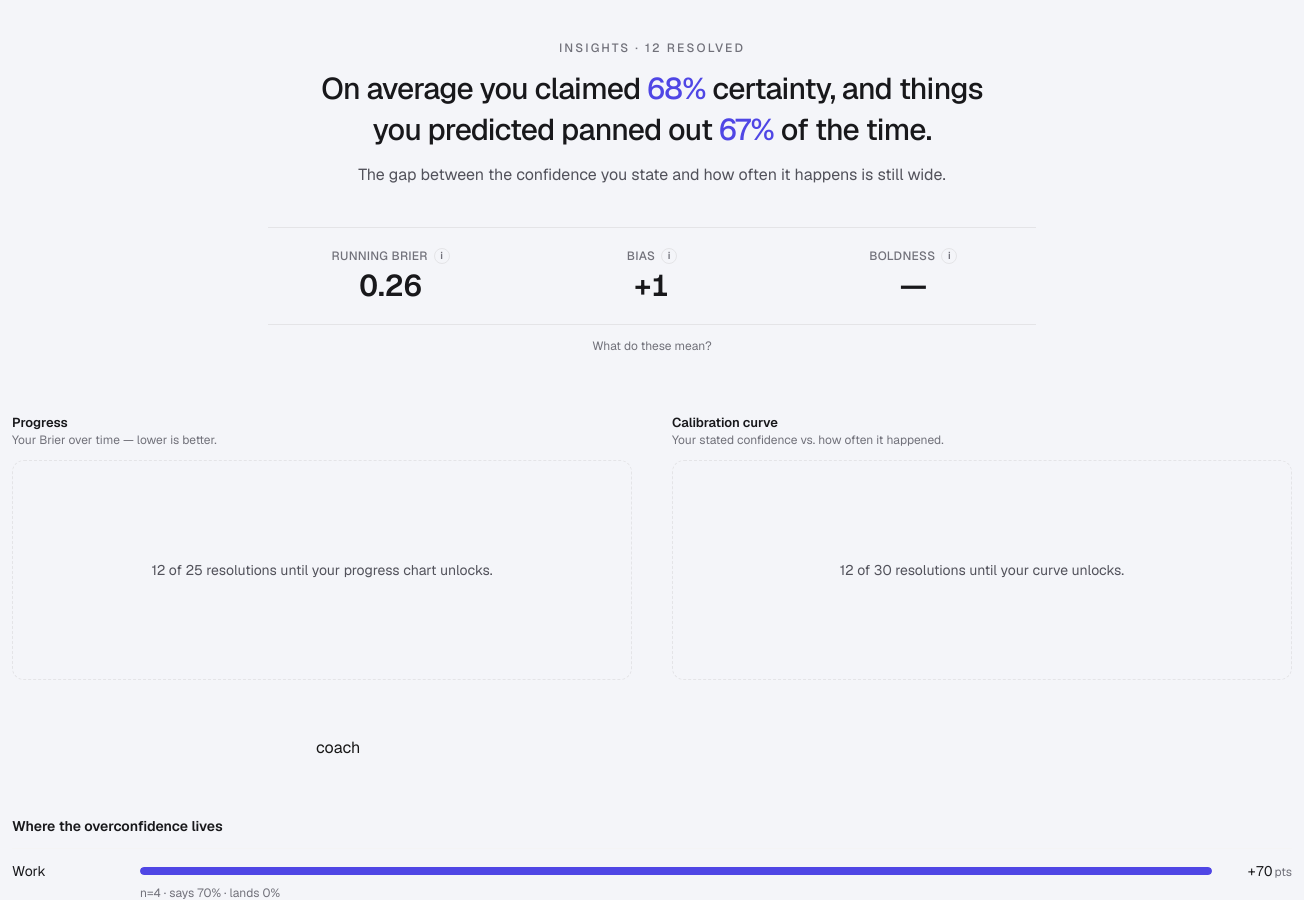
Test: InsightsOverview — narrative redesign › keeps definitions behind one 'What do these mean?' affordance that toggles open
This screenshot has width=1304, height=900.
Click the button "What do these mean?".
click(652, 346)  # box [592,338,712,354]
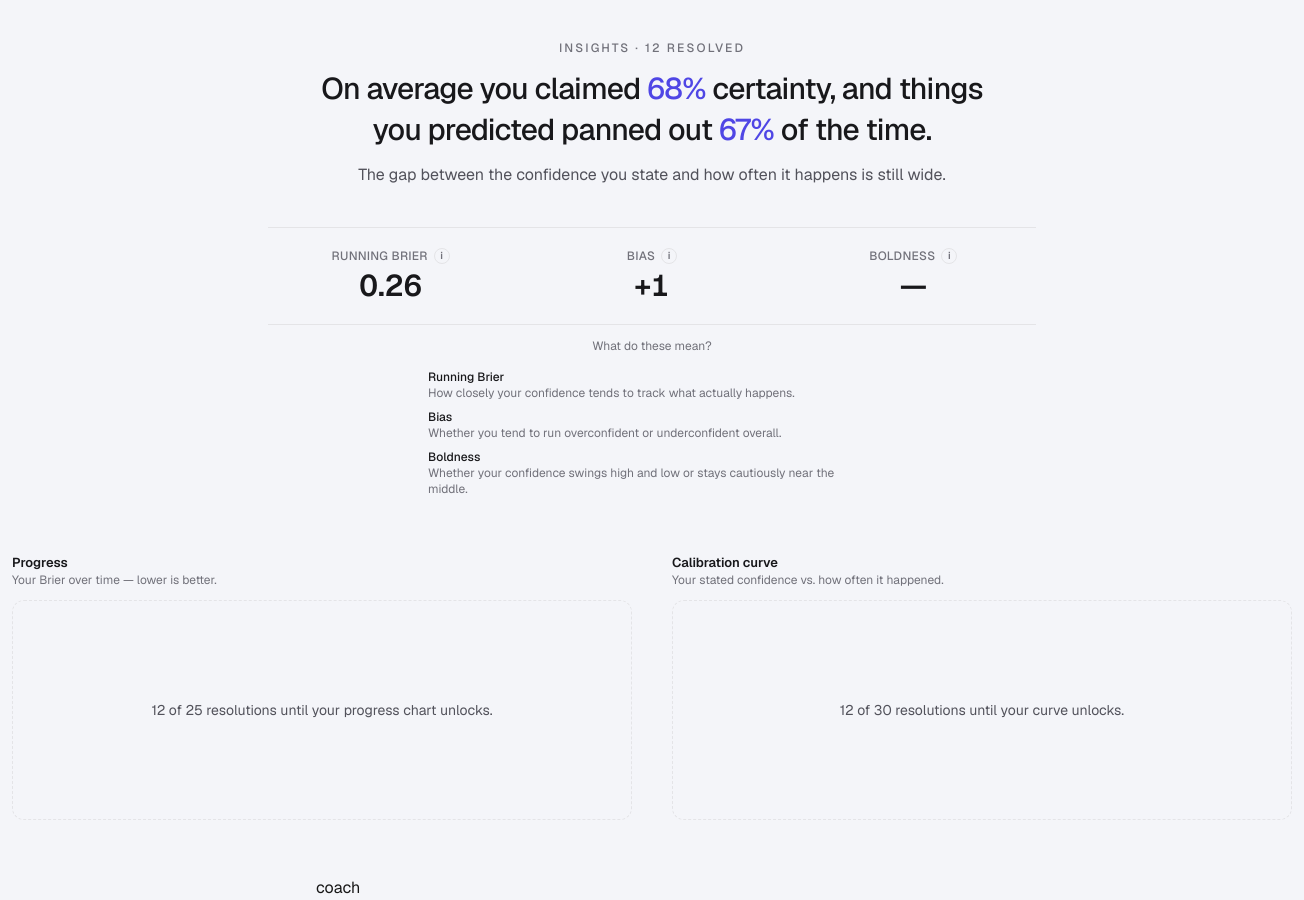
Expected: the element that starts with "Running Brier" is shown, [428,368,876,496]
